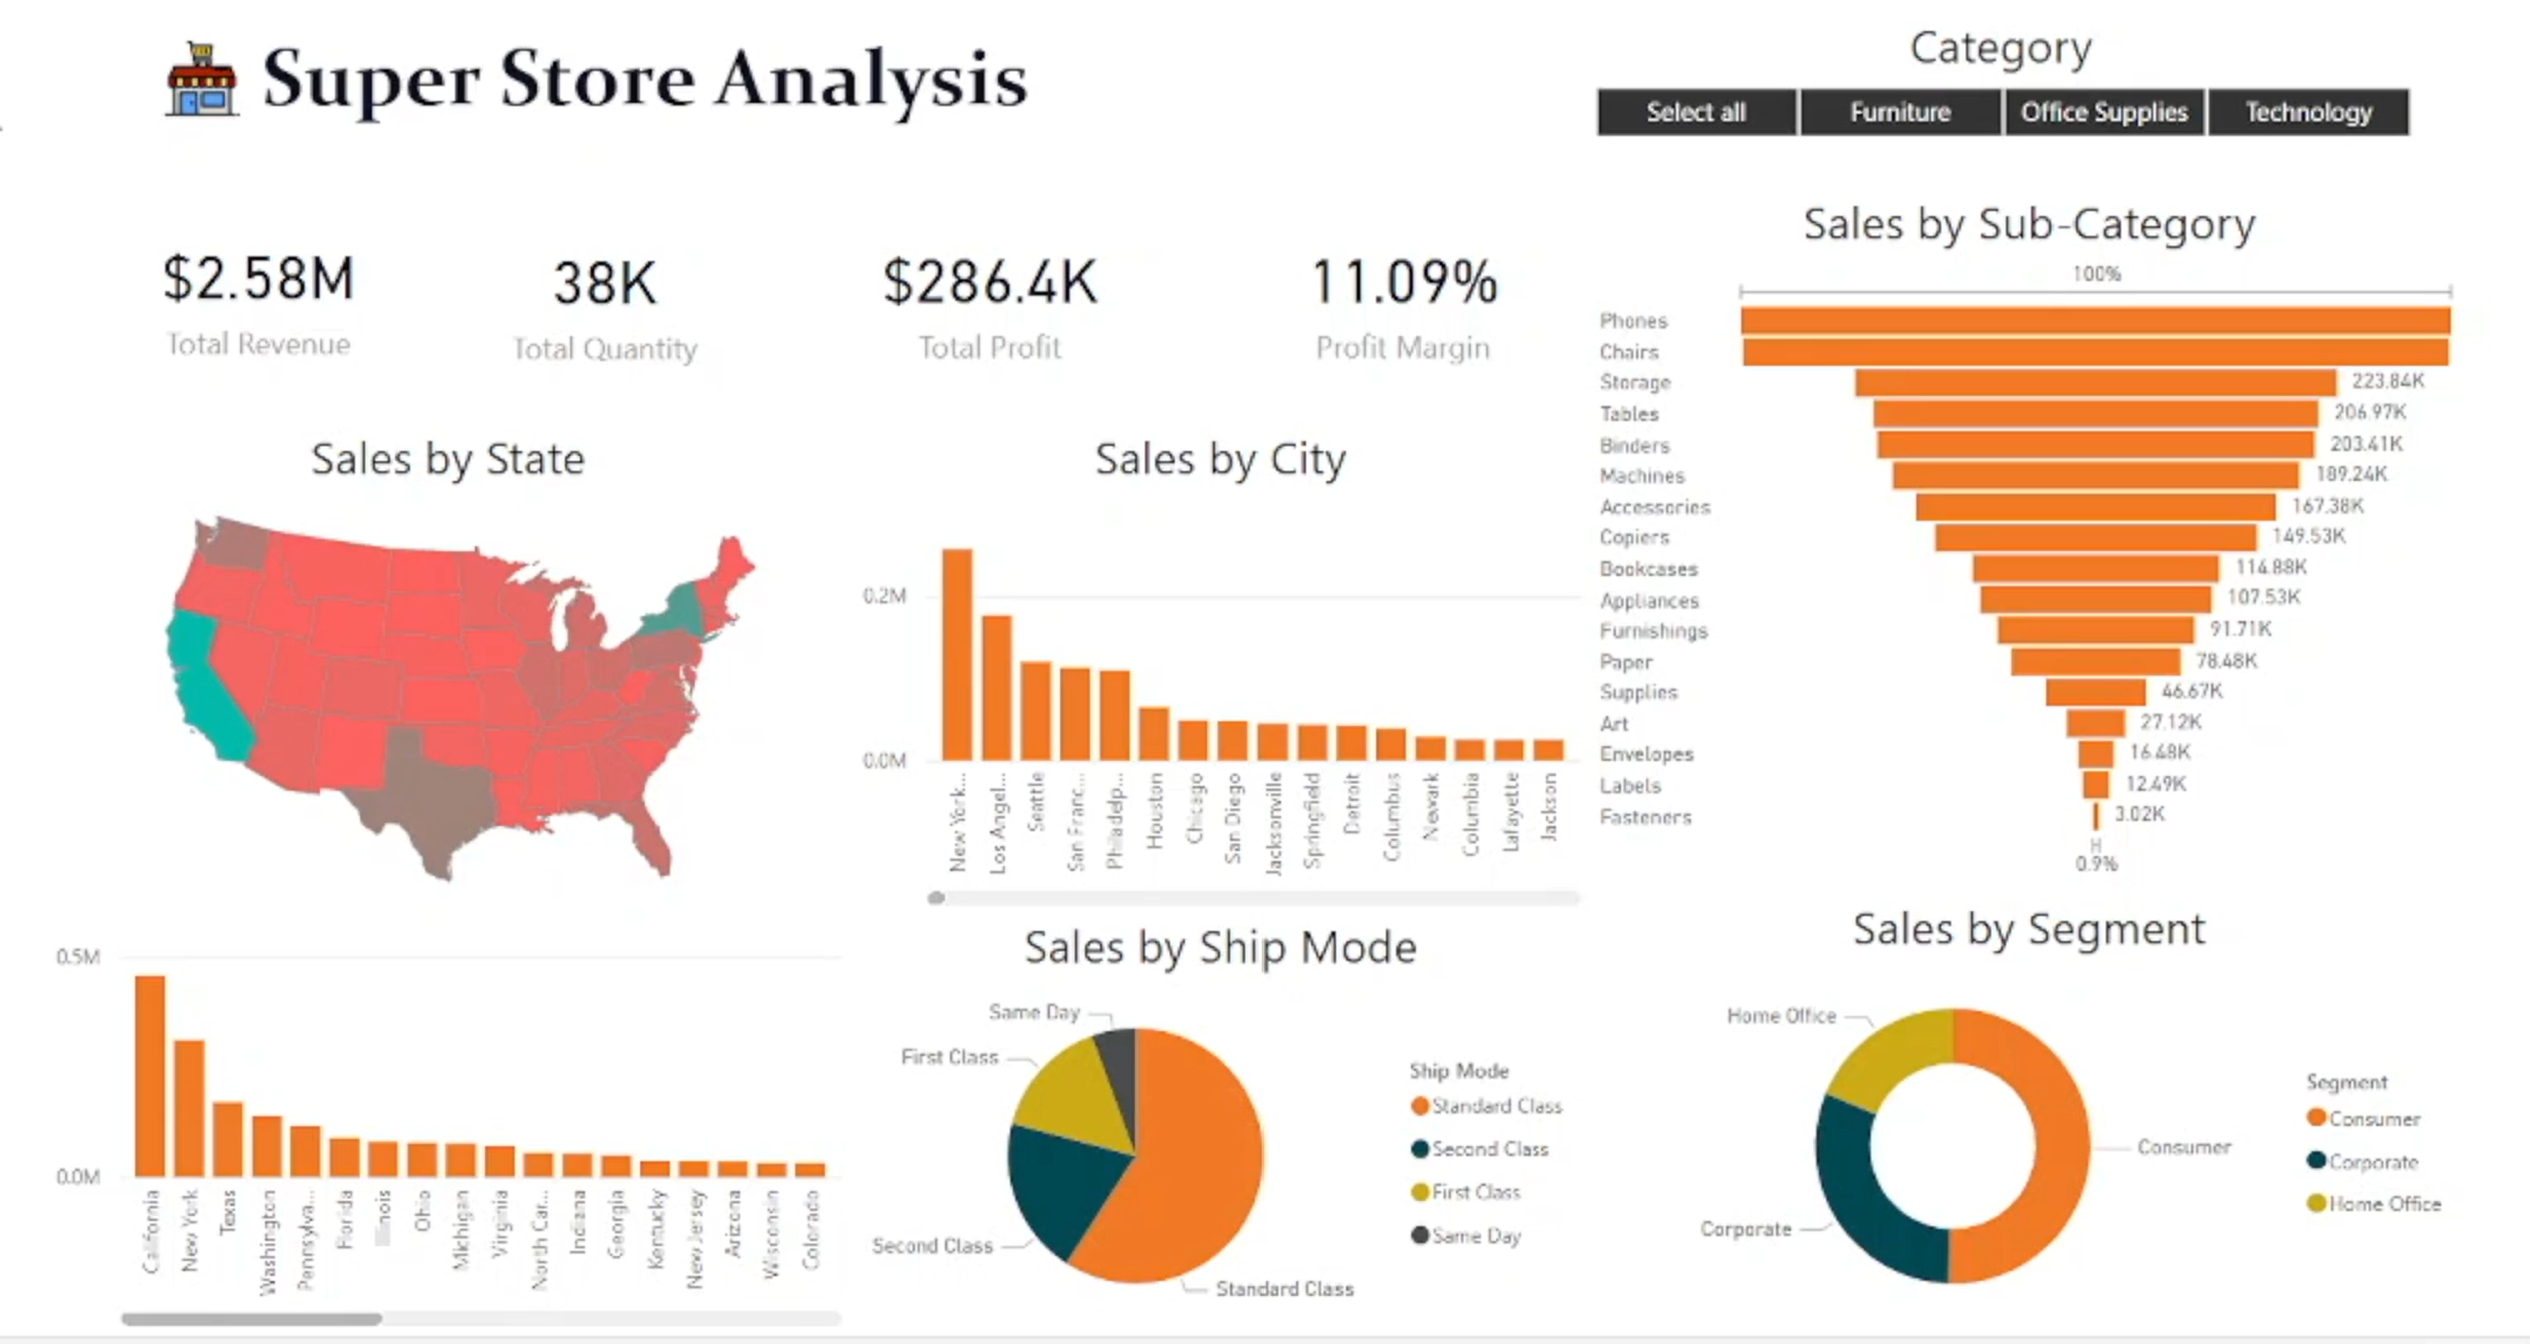

The page's visual inventory and layout, read from the dashboard file:
{"tool":"powerbi","page":{"name":"Sales","canvas":[1280,720],"ordinal":0},"visuals":[{"type":"card","fields":{"Values":["SampleSuperstore.Profit plus Sales"]},"box":[0,93,171.8,106.3],"z":1000},{"type":"card","fields":{"Values":["Sum(SampleSuperstore.Quantity)"]},"box":[171.8,93,204.6,106.3],"z":2000},{"type":"card","fields":{"Values":["Sum(SampleSuperstore.Profit)"]},"box":[376.4,93,249.7,106.3],"z":3000},{"type":"card","fields":{"Values":["SampleSuperstore.Profit divided by Total Revenue"]},"box":[626.1,93,233.8,106.3],"z":4000},{"type":"shapeMap","title":"Sales by State","fields":{"Category":["SampleSuperstore.State"],"Value":["Sum(SampleSuperstore.Sales)"]},"box":[0,209.9,395,248.9],"z":5000},{"type":"clusteredColumnChart","fields":{"Y":["Sum(SampleSuperstore.Sales)"],"Category":["SampleSuperstore.State"]},"box":[0,449,395,270.1],"z":6000},{"type":"clusteredColumnChart","title":"Sales by City","fields":{"Y":["Sum(SampleSuperstore.Sales)"],"Category":["SampleSuperstore.City"]},"box":[404.7,209.9,455.2,263.9],"z":7000},{"type":"pieChart","title":"Sales by Ship Mode","fields":{"Category":["SampleSuperstore.Ship Mode"],"Y":["Sum(SampleSuperstore.Sales)"]},"box":[404.7,483.5,455.2,235.6],"z":8000},{"type":"funnel","title":"Sales by Sub-Category","fields":{"Category":["SampleSuperstore.Sub-Category"],"Y":["Sum(SampleSuperstore.Sales)"]},"box":[870.6,93,409.2,380.8],"z":9000},{"type":"donutChart","title":"Sales by Segment","fields":{"Category":["SampleSuperstore.Segment"],"Y":["Sum(SampleSuperstore.Sales)"]},"box":[870.6,484.4,409.2,235.6],"z":10000},{"type":"slicer","title":"Category","fields":{"Values":["SampleSuperstore.Category"]},"box":[808.3,10,471.7,73.9],"z":19001},{"type":"textbox","box":[165.7,16.4,479.3,72.1],"z":19002,"group":"g1"},{"type":"image","box":[107.7,20.4,58.2,59.3],"z":19003,"group":"g1"},{"type":"group","id":"g1","title":"Group 1","box":[107.7,16.4,537.4,72.1],"z":19004}]}

Visuals, with their boxes in screenshot pixels (x1, y1, x2, y2):
card - SampleSuperstore.Profit plus Sales: bbox(270, 86, 586, 281)
card - Sum(SampleSuperstore.Quantity): bbox(586, 86, 963, 281)
card - Sum(SampleSuperstore.Profit): bbox(963, 86, 1423, 281)
card - SampleSuperstore.Profit divided by Total Revenue: bbox(1423, 86, 1853, 281)
"Sales by State" shapeMap: bbox(270, 301, 997, 759)
clusteredColumnChart - Sum(SampleSuperstore.Sales) x SampleSuperstore.State: bbox(270, 741, 997, 1238)
"Sales by City" clusteredColumnChart: bbox(1015, 301, 1853, 787)
"Sales by Ship Mode" pieChart: bbox(1015, 804, 1853, 1238)
"Sales by Sub-Category" funnel: bbox(1873, 86, 2529, 787)
"Sales by Segment" donutChart: bbox(1873, 806, 2529, 1240)
"Category" slicer: bbox(1758, 0, 2529, 69)
textbox: bbox(575, 0, 1458, 77)
image: bbox(468, 0, 576, 61)
"Group 1" group: bbox(468, 0, 1458, 77)
